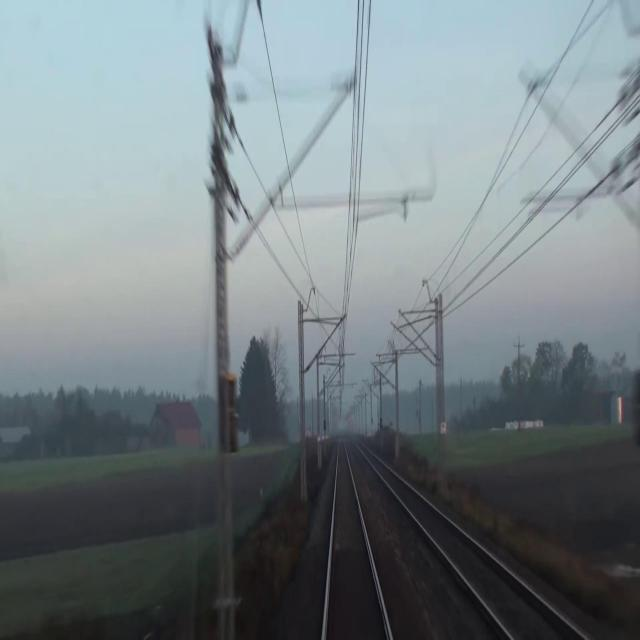rail-track: (326, 443, 387, 639)
